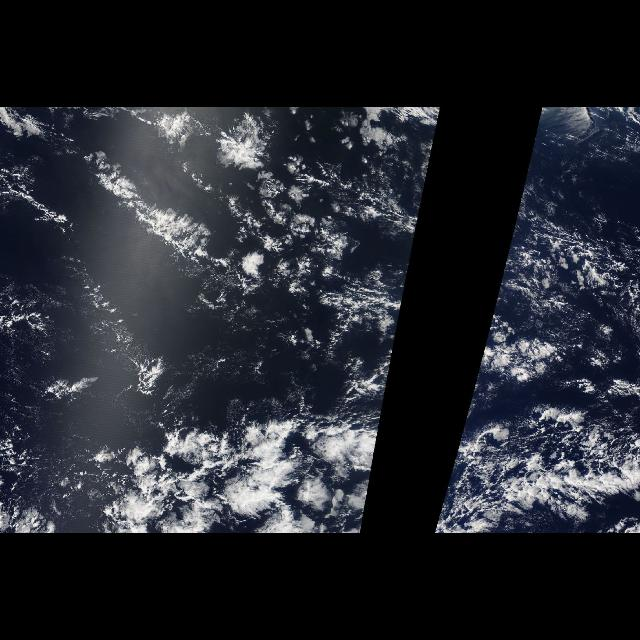Fish: (3, 112, 391, 404), (478, 428, 636, 530)
Flower: (76, 402, 384, 534), (210, 114, 294, 174)
Gravel: (480, 388, 636, 476)
